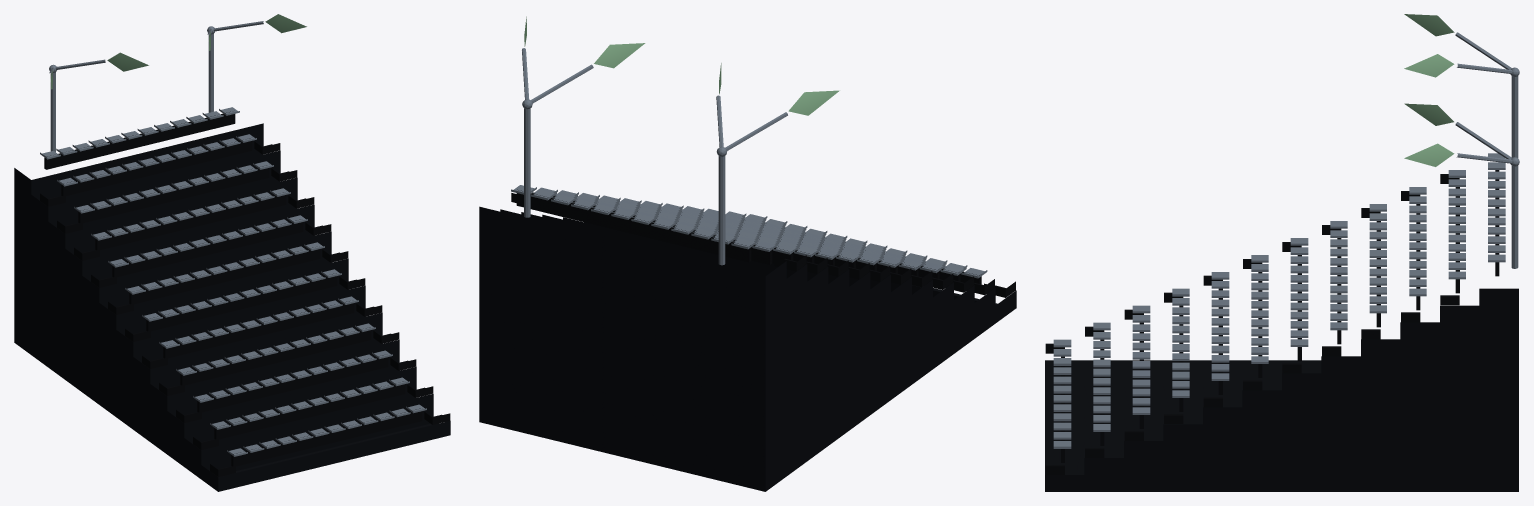
The picture shows the model from 3 angles, left to right: view 1: azimuth 30°, elevation 25°; view 2: azimuth 150°, elevation 25°; view 3: azimuth 270°, elevation 25°; orthographic projection. The views are drawn at different scales.
Visible parts, largest first — view 1: Tier_Concrete, Seat_Beams, Seat_Pans, Aisle_Steps, Canopy_Steel, Canopy_Leaves; view 2: Tier_Concrete, Seat_Pans, Seat_Beams, Canopy_Steel, Aisle_Steps, Canopy_Leaves; view 3: Tier_Concrete, Seat_Pans, Aisle_Steps, Canopy_Steel, Canopy_Leaves, Seat_Beams.
Boxes of the visible parts, x1,y1,x2,y2 form: Tier_Concrete: (14, 123, 450, 491); Seat_Beams: (44, 111, 422, 466); Seat_Pans: (40, 107, 426, 456); Aisle_Steps: (40, 141, 450, 477); Canopy_Steel: (49, 21, 263, 151); Canopy_Leaves: (50, 14, 306, 89); Tier_Concrete: (479, 206, 1016, 491); Seat_Pans: (511, 185, 987, 278); Seat_Beams: (516, 189, 981, 284); Canopy_Steel: (522, 48, 787, 265); Aisle_Steps: (511, 193, 1015, 297); Canopy_Leaves: (524, 16, 839, 115); Tier_Concrete: (1045, 288, 1518, 491); Seat_Pans: (1053, 153, 1505, 448); Aisle_Steps: (1045, 174, 1459, 474); Canopy_Steel: (1455, 32, 1519, 268); Canopy_Leaves: (1404, 14, 1454, 166); Seat_Beams: (1061, 170, 1499, 462).
Size of the model in its own units: 8.22 by 9.2 by 11.42.
4 materials, 3 textured.
